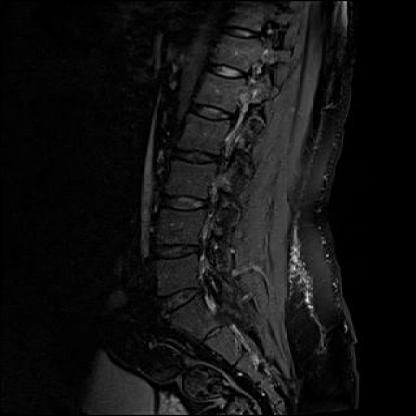Disc Bulgerotation: (150, 286, 211, 314), (148, 236, 211, 263)
